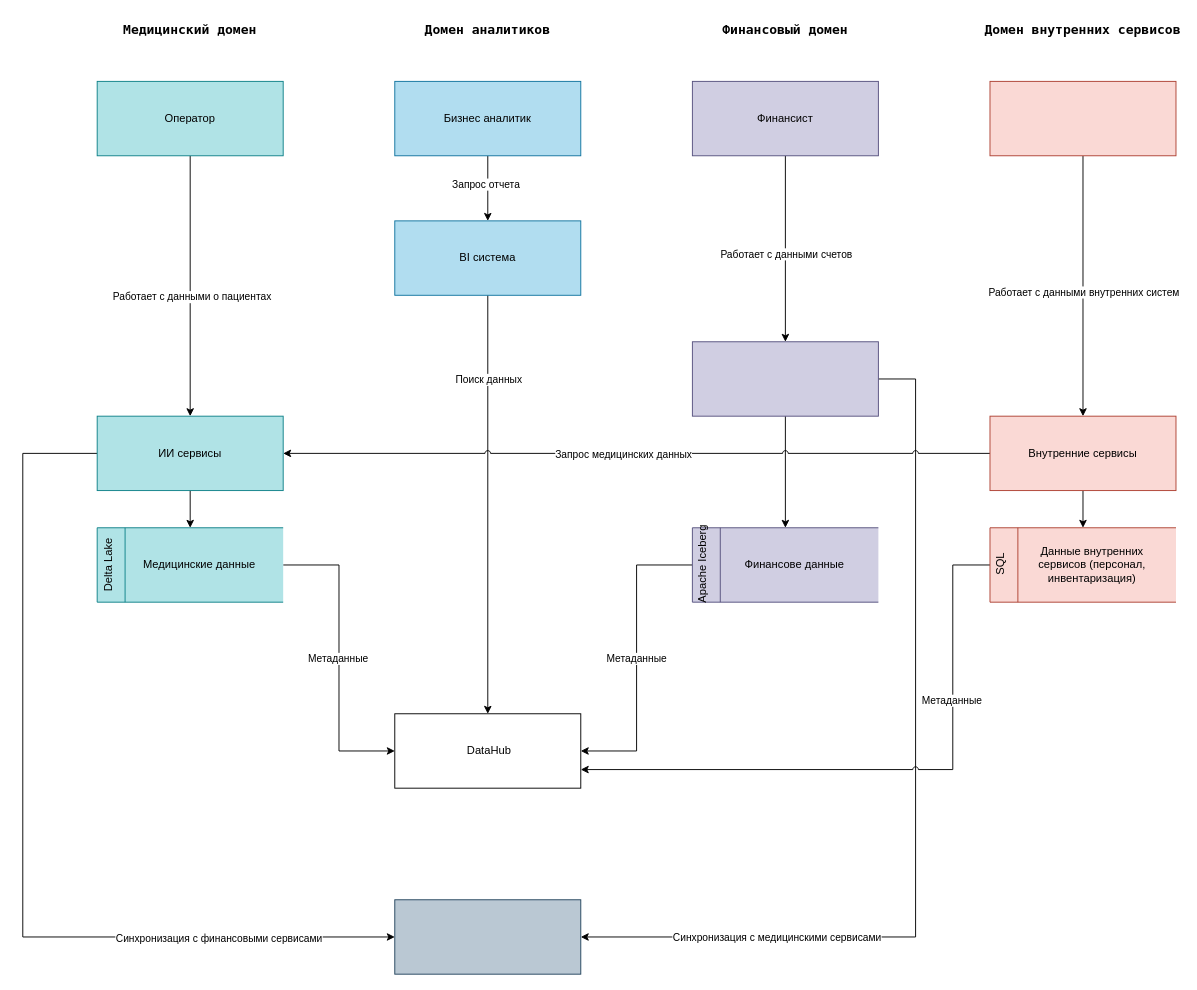
Image size: 1197x990. Some labels were removed from this diagram. The centre of each missing label's shape, as x and y in pixels:
Менеджмент, HR и пр.: (1082,118)
Финтех сервисы: (784,378)
Шина данных: (487,936)
